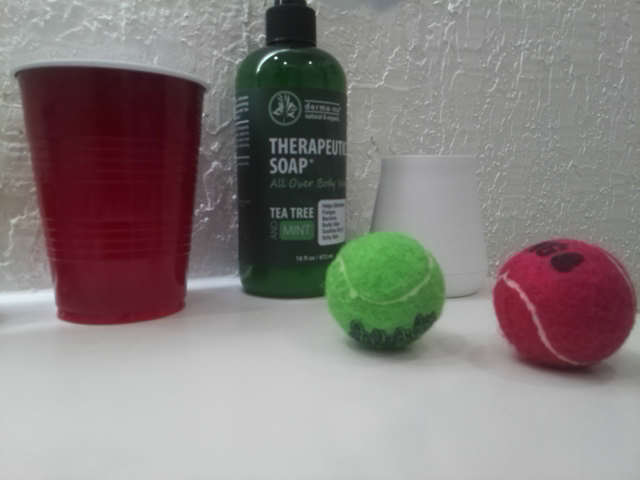green-ball: (321, 228, 447, 351)
red-ball: (490, 236, 639, 373)
